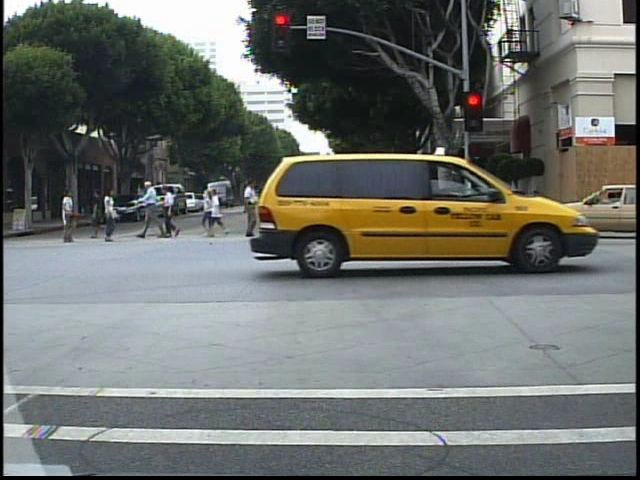person: (138, 175, 165, 244), (306, 167, 332, 238), (53, 187, 84, 243), (235, 181, 263, 238), (158, 185, 186, 239), (95, 187, 120, 246), (89, 186, 110, 241)
